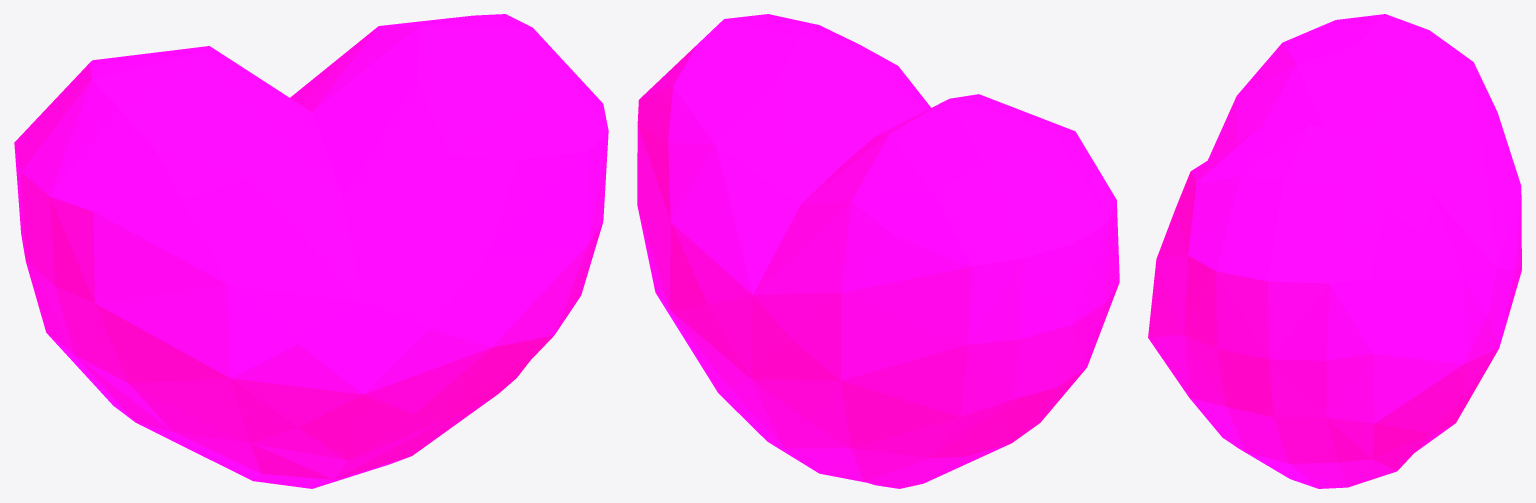
The model's file is gift.glb.
3 renders of one model, left to right at view 1: azimuth 30°, elevation 25°; view 2: azimuth 150°, elevation 25°; view 3: azimuth 270°, elevation 25°, orthographic. The views are drawn at different scales.
Visible parts, largest first — view 1: Cube; view 2: Cube; view 3: Cube.
Boxes of the visible parts, left/top/right/bottom form: Cube: left=14, top=14, right=608, bottom=488; Cube: left=637, top=14, right=1119, bottom=488; Cube: left=1148, top=14, right=1521, bottom=488.
Bounding box in the file's own units: 3 × 2.51 × 2.13.
